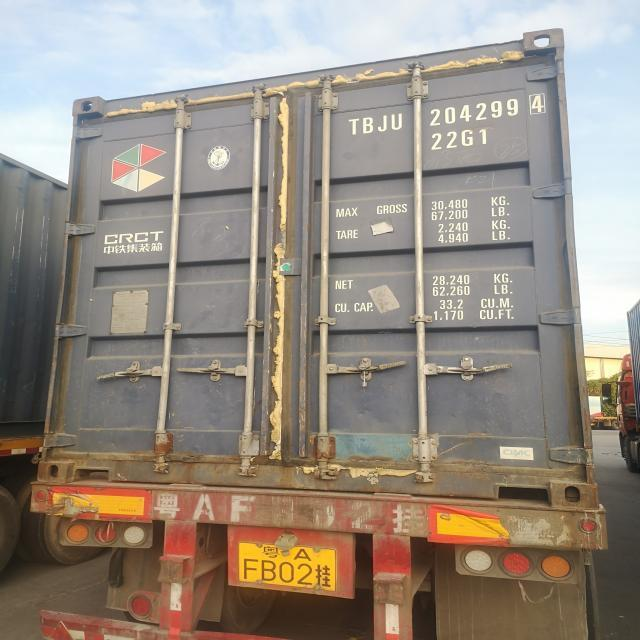ISO: (425, 127, 493, 142)
container_number: (348, 94, 558, 139)
